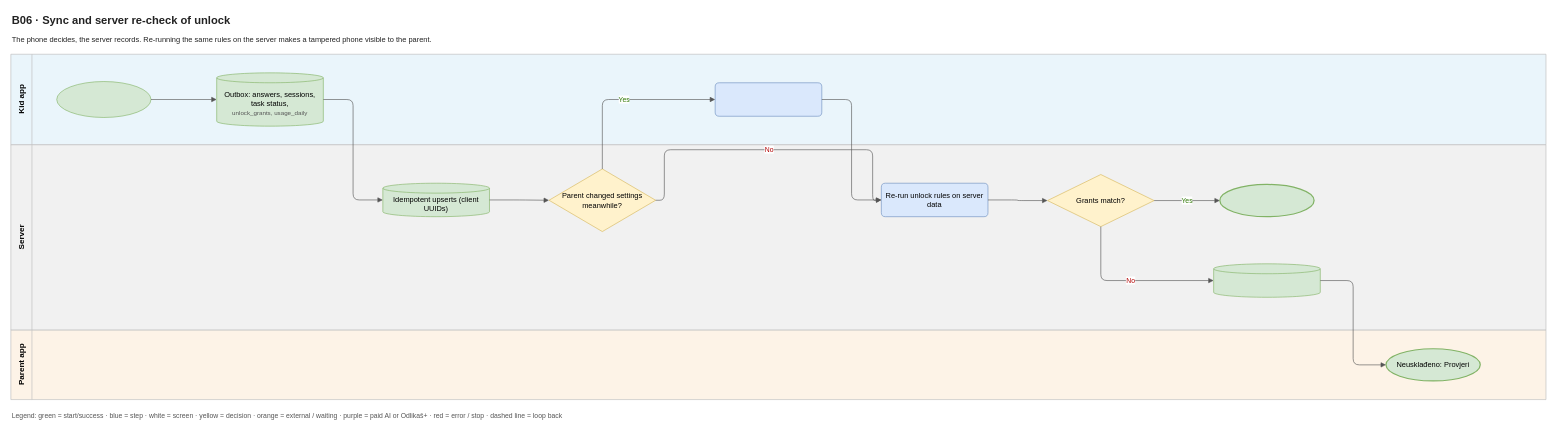
This 1557x432 diagram has some shape labels left out. Each missing label, with the box of its shape:
Flag in weekly report + notification: (1213, 263, 1320, 297)
Online again or session ends: (56, 81, 151, 117)
Pull new settings; apply from next plan: (715, 82, 822, 116)
Recorded: (1219, 184, 1314, 217)
